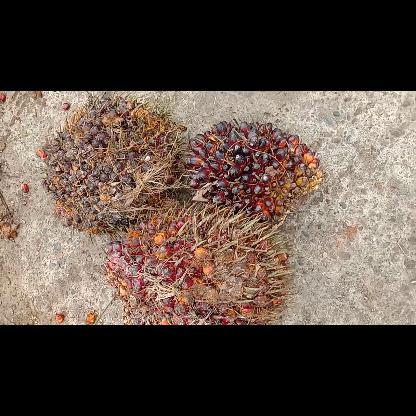Kurang masak: (37, 92, 180, 235), (181, 119, 324, 228)
TBS masak: (103, 206, 291, 324)
